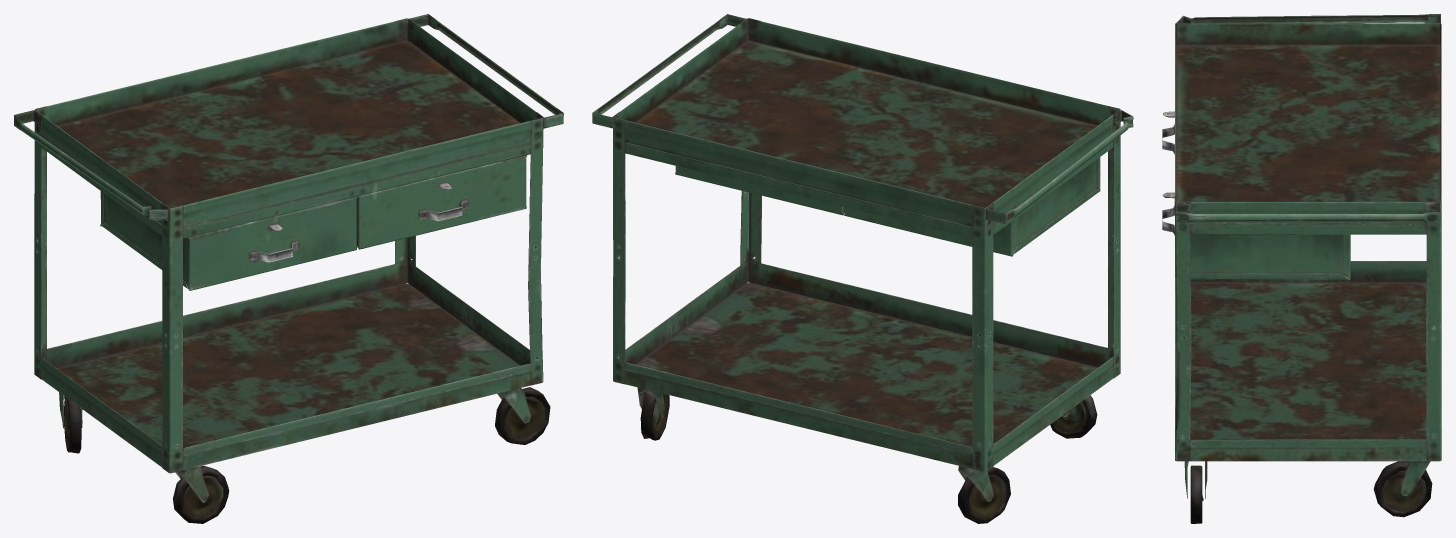
The model's file is tool_cart.slim.glb.
The picture shows the model from 3 angles, left to right: view 1: azimuth 30°, elevation 25°; view 2: azimuth 150°, elevation 25°; view 3: azimuth 270°, elevation 25°; orthographic projection. The views are drawn at different scales.
Size of the model in its own units: 1.27 by 0.963 by 0.7484.
Materials: 1 (1 with a texture image).
